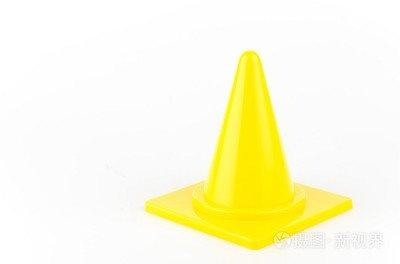cone_barrel: (190, 50, 308, 226)
